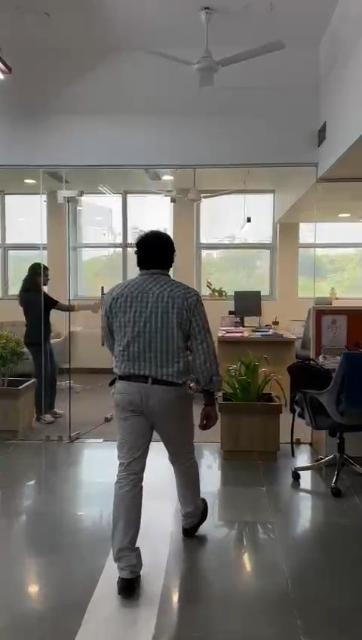floor: (212, 490, 362, 630), (0, 450, 108, 640)
moving-obj: (92, 228, 252, 608), (17, 247, 97, 451)
object: (298, 346, 362, 478), (220, 357, 282, 461), (0, 332, 30, 436), (230, 288, 266, 324)
wall: (268, 173, 300, 315), (172, 204, 200, 278), (47, 204, 69, 290)
